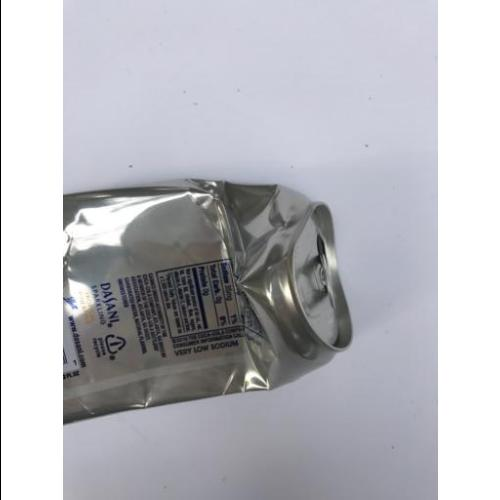metal: (63, 175, 351, 429)
